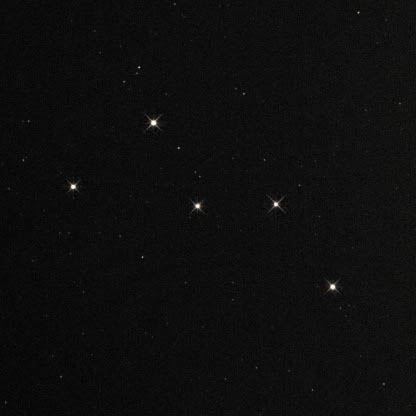Cassiopeia: (139, 107, 194, 157), (61, 175, 98, 206), (320, 269, 349, 303), (262, 187, 292, 218), (183, 190, 210, 218)
